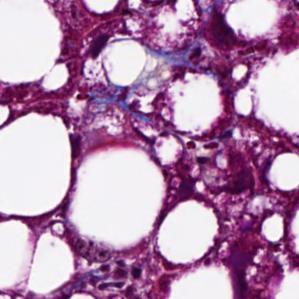inflammation: (79, 253, 146, 293), (117, 88, 166, 120), (175, 34, 219, 63), (180, 138, 224, 164)
